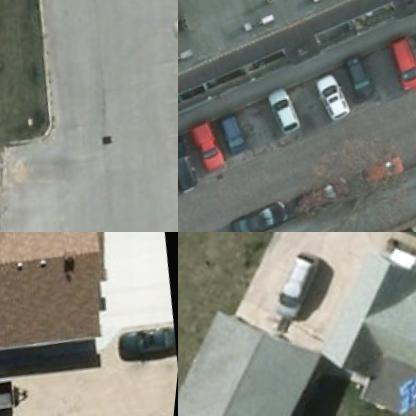car: (270, 244, 334, 320), (116, 318, 177, 360), (178, 125, 212, 199), (192, 120, 238, 174), (270, 83, 312, 138), (345, 53, 386, 107), (320, 70, 361, 123), (222, 113, 260, 166), (368, 150, 415, 186), (303, 182, 352, 216), (390, 30, 415, 93), (236, 205, 294, 231)
